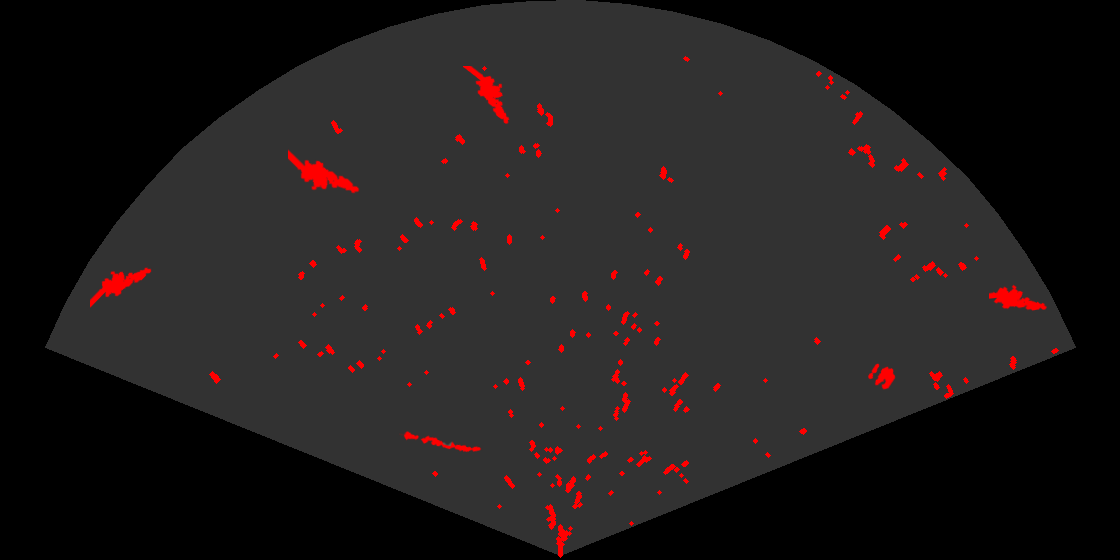ball: (866, 362, 897, 391)
chain: (399, 430, 483, 454)
frogman: (288, 148, 361, 195), (463, 66, 511, 126), (90, 266, 153, 309), (989, 283, 1047, 312)
